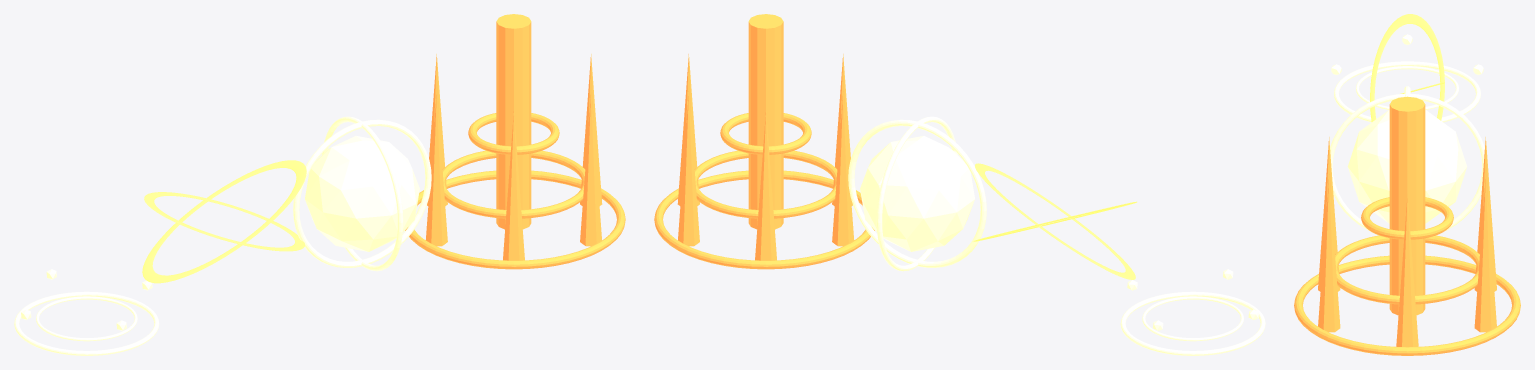
Rendered from kimmy_skills_vfx.glb.
The picture shows the model from 3 angles, left to right: view 1: azimuth 30°, elevation 25°; view 2: azimuth 150°, elevation 25°; view 3: azimuth 270°, elevation 25°; orthographic projection.
Visible parts, largest first — view 1: VFX_Ultimate, VFX_Skill_2, VFX_Skill_1, VFX_Passive; view 2: VFX_Ultimate, VFX_Skill_2, VFX_Passive, VFX_Skill_1; view 3: VFX_Ultimate, VFX_Skill_2, VFX_Passive, VFX_Skill_1.
Part boxes in pixels (<box>): VFX_Ultimate: <box>405,14,625,269</box>; VFX_Skill_2: <box>293,116,431,271</box>; VFX_Skill_1: <box>142,160,306,283</box>; VFX_Passive: <box>14,269,159,355</box>; VFX_Ultimate: <box>654,14,874,269</box>; VFX_Skill_2: <box>848,116,986,271</box>; VFX_Passive: <box>1120,269,1265,355</box>; VFX_Skill_1: <box>973,163,1136,279</box>; VFX_Ultimate: <box>1294,96,1520,355</box>; VFX_Skill_2: <box>1330,86,1484,230</box>; VFX_Passive: <box>1331,34,1483,122</box>; VFX_Skill_1: <box>1370,14,1444,121</box>.
Bounding box in the file's own units: 8.55 × 2.88 × 2.81.
